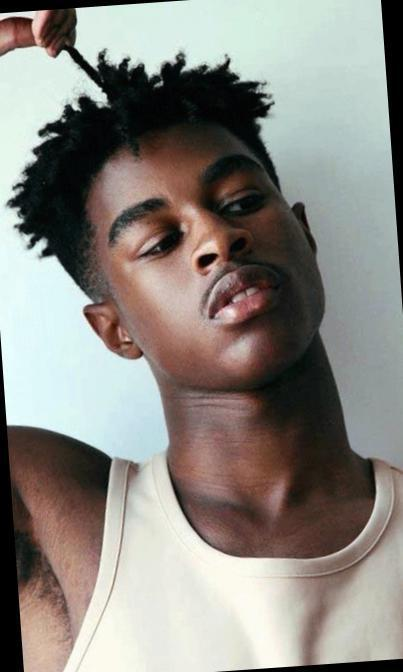Sober: (108, 146, 314, 362)
